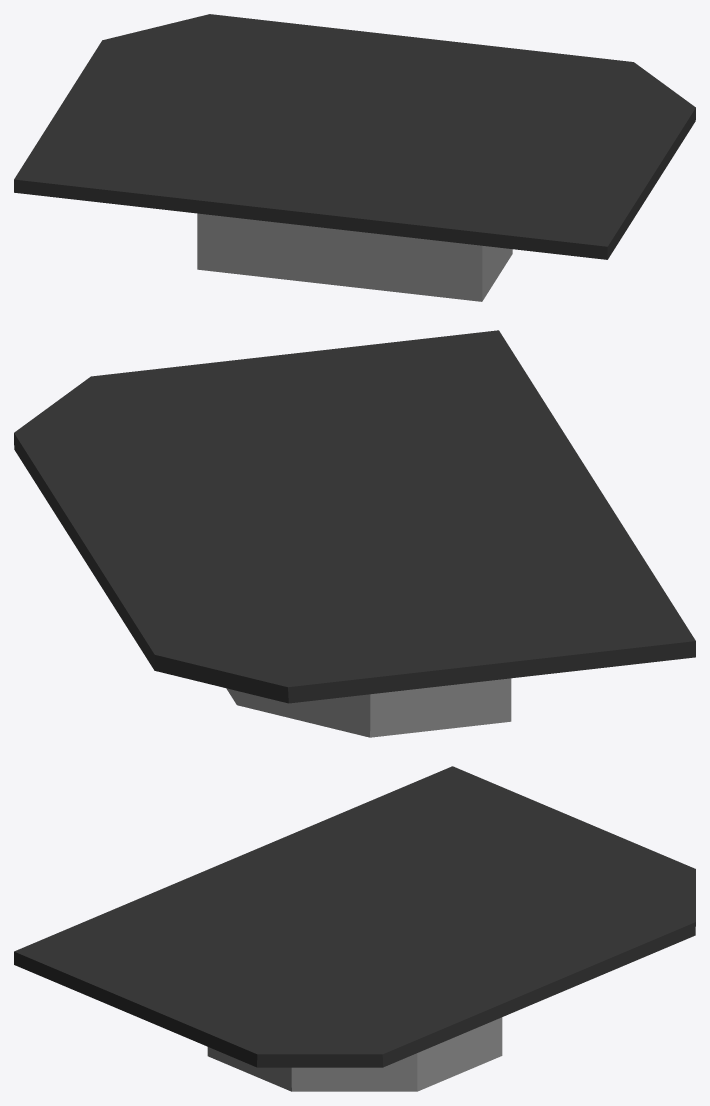
Rendered from Commons_Coffee_Table.fbx.
3 renders of one model, top to bottom at view 1: azimuth 30°, elevation 25°; view 2: azimuth 150°, elevation 25°; view 3: azimuth 270°, elevation 25°, orthographic. The views are drawn at different scales.
Parts seen in each view (by area): view 1: Commons_Coffee_Table; view 2: Commons_Coffee_Table; view 3: Commons_Coffee_Table.
Part boxes in pixels (<box>): Commons_Coffee_Table: <box>14,14,695,301</box>; Commons_Coffee_Table: <box>14,330,695,737</box>; Commons_Coffee_Table: <box>14,766,695,1091</box>.
Size of the model in its own units: 672 by 130 by 672.
